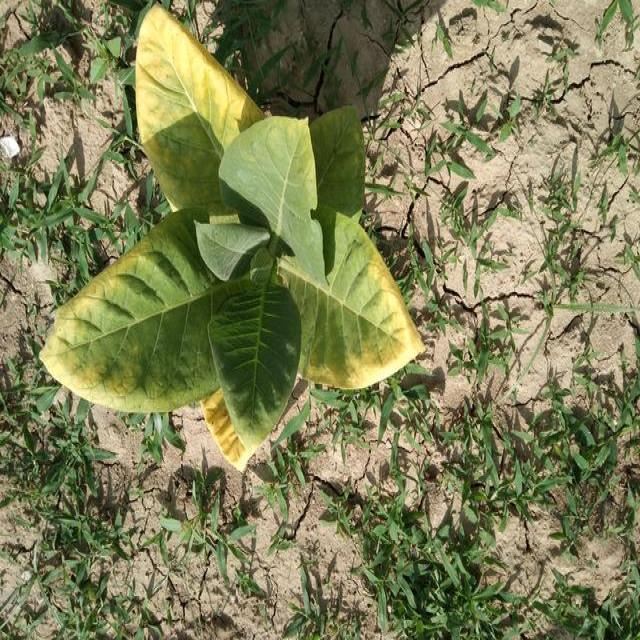crop: (38, 18, 416, 470)
